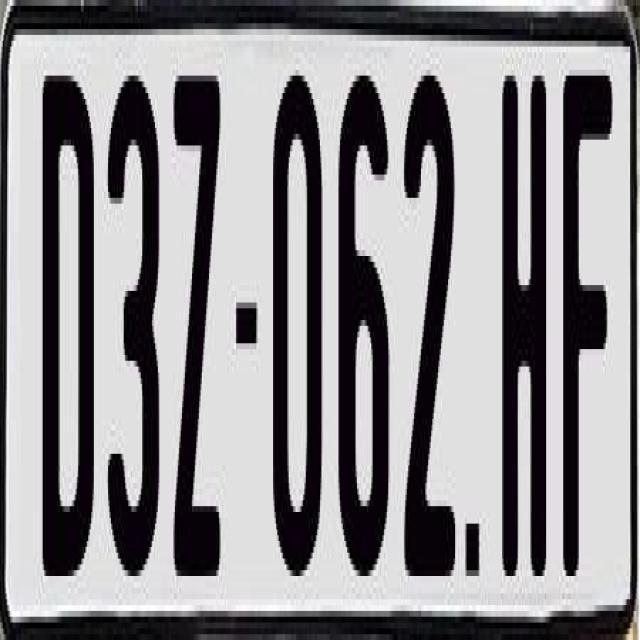0: (272, 70, 324, 606)
2: (402, 70, 462, 582)
3: (105, 75, 161, 606)
6: (338, 58, 388, 570)
D: (43, 70, 94, 594)
F: (558, 70, 614, 588)
H: (498, 64, 542, 570)
Z: (170, 64, 224, 582)
